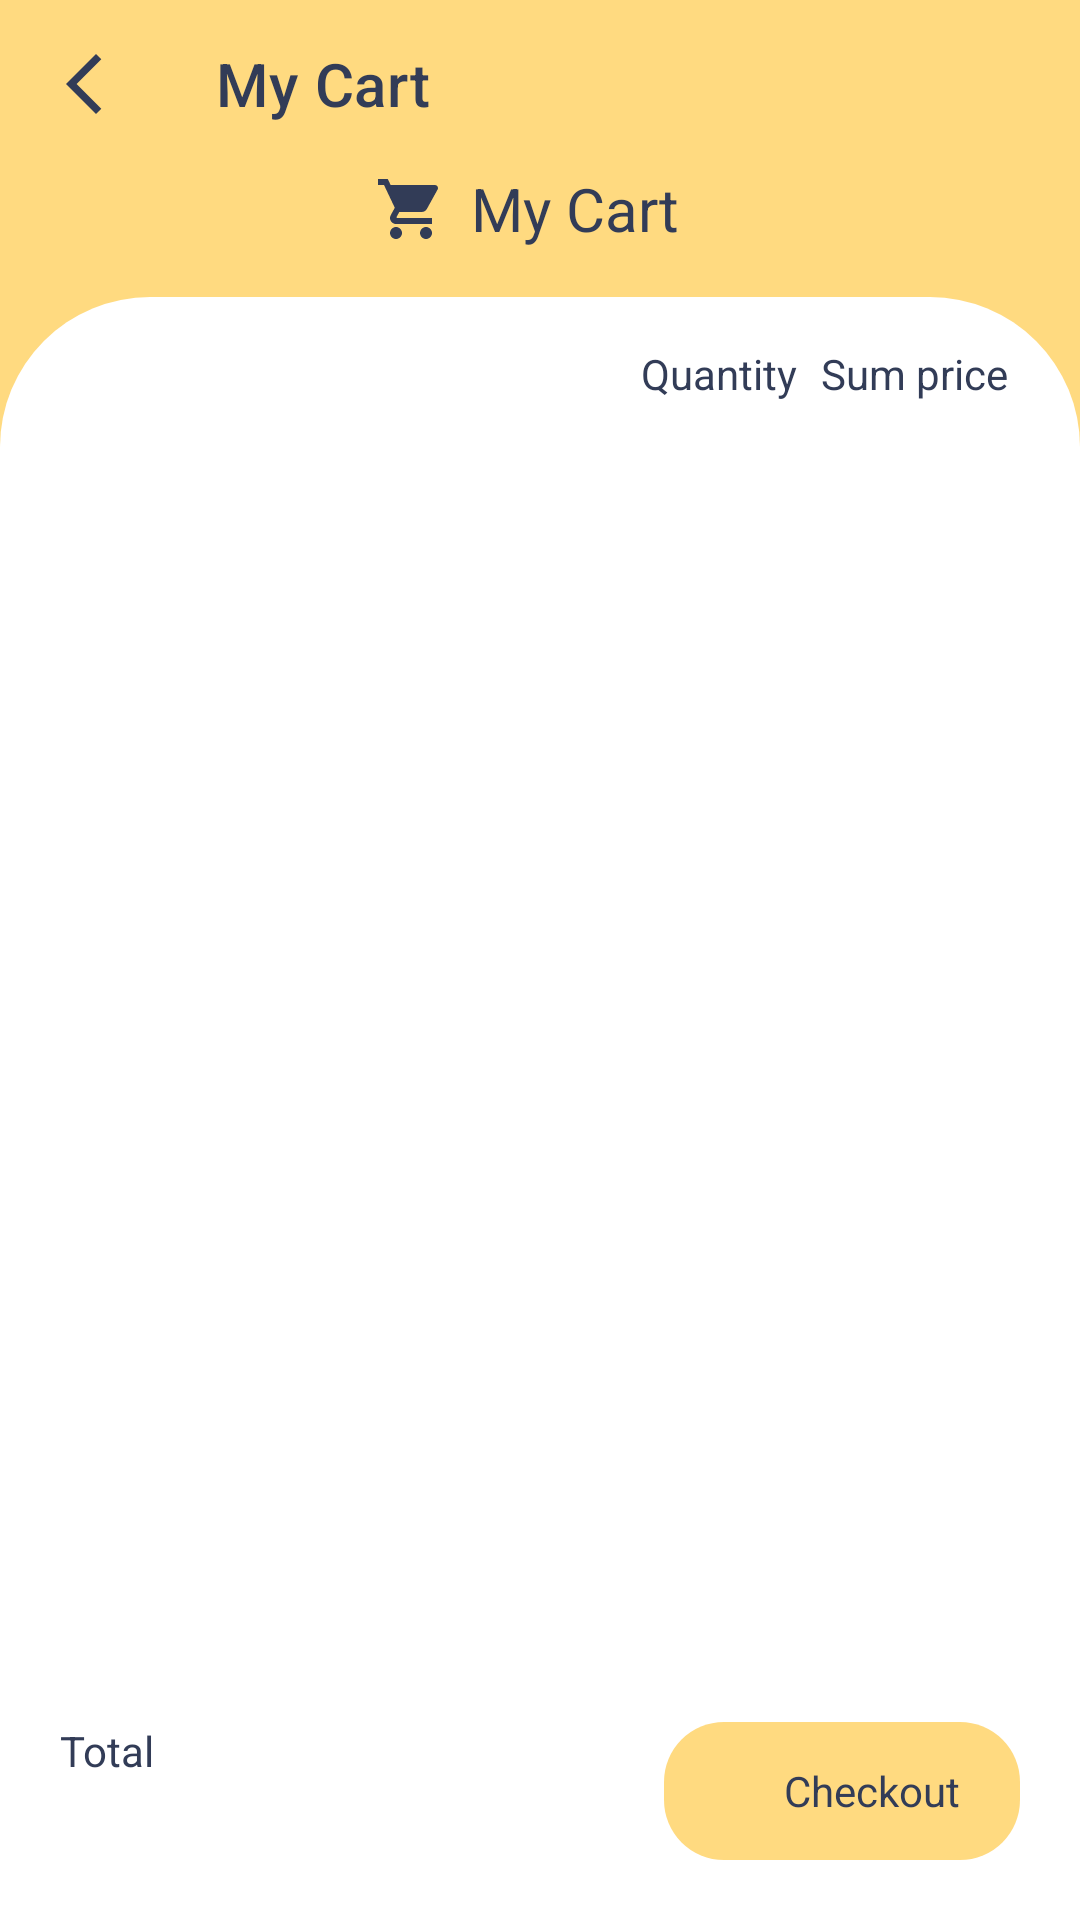

Named icons in this screenshot (1080px x 1920px) and their centers, point (x, y):
shopping cart: point (408, 209)
